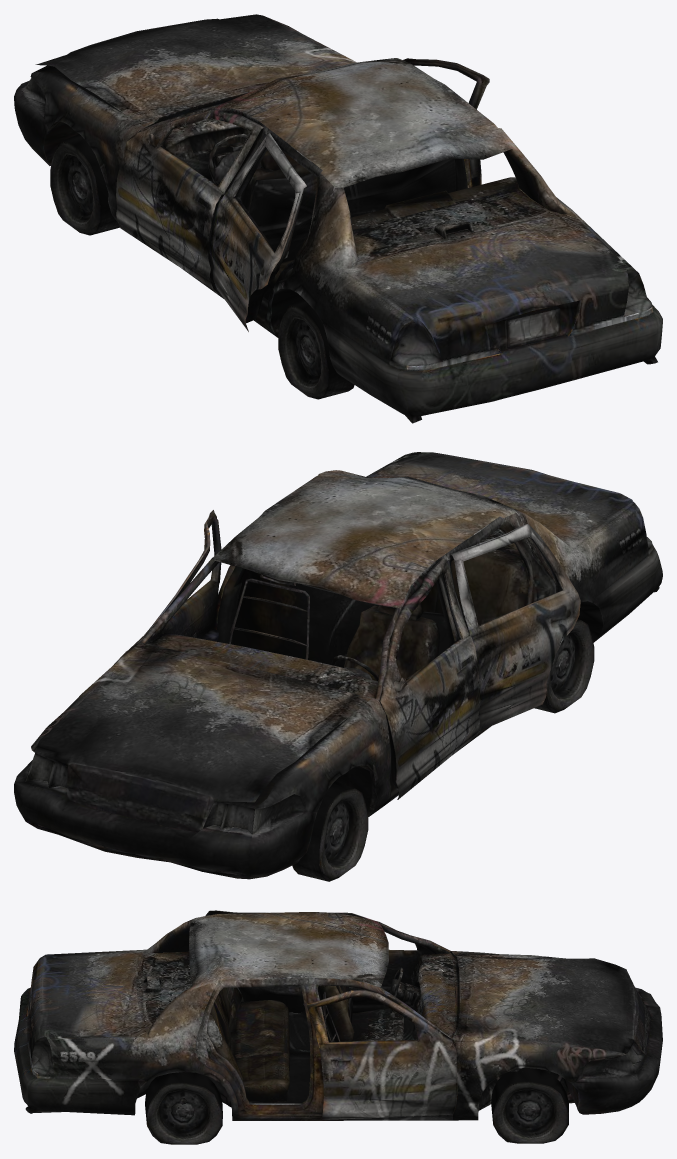
File: car_police_burnt.gltf
3 renders of one model, top to bottom at view 1: azimuth 30°, elevation 25°; view 2: azimuth 150°, elevation 25°; view 3: azimuth 270°, elevation 25°, orthographic. The views are drawn at different scales.
Parts seen in each view (by area): view 1: car_police_burnt; view 2: car_police_burnt; view 3: car_police_burnt.
Boxes of the visible parts, x1=… form: car_police_burnt: x1=14, y1=14, x2=662, y2=423; car_police_burnt: x1=14, y1=452, x2=662, y2=881; car_police_burnt: x1=14, y1=910, x2=662, y2=1144.
Bounding box in the file's own units: 1.94 × 1.27 × 4.8.
1 material, 1 textured.
